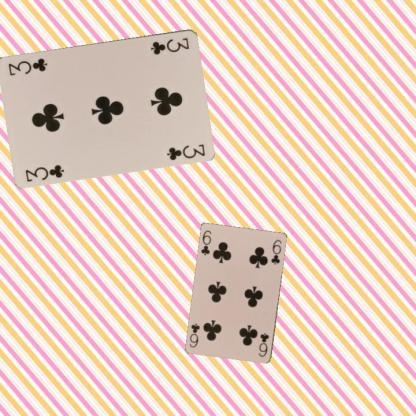3c: (22, 161, 66, 183), (148, 35, 191, 56)
6c: (198, 228, 212, 257), (256, 331, 270, 358)
